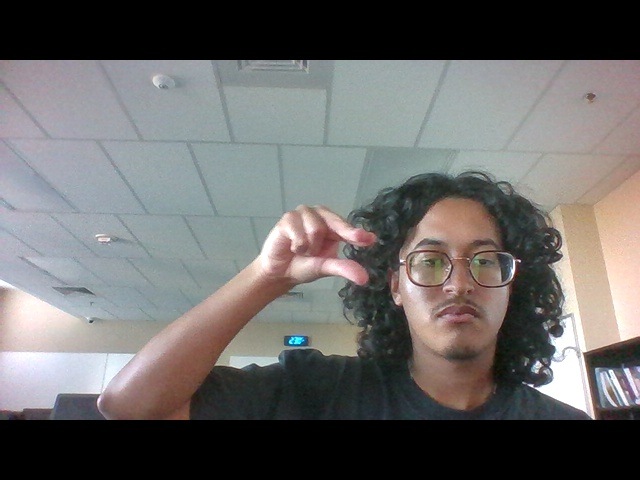no: (256, 191, 385, 309)
